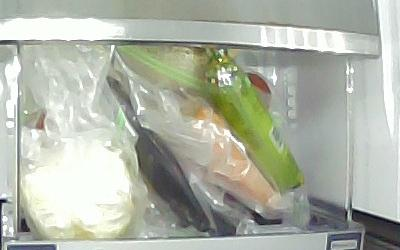cabbage_vinyl: (19, 137, 135, 239)
carrot_vinyl: (181, 106, 275, 205)
eggplant_vinyl: (99, 78, 217, 238)
zucchini: (204, 68, 305, 191)
